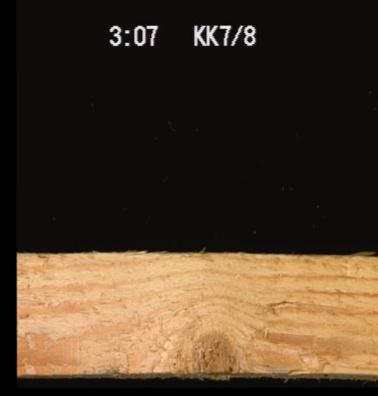edge_knot: (174, 330, 240, 383)
wave: (250, 360, 319, 381)
